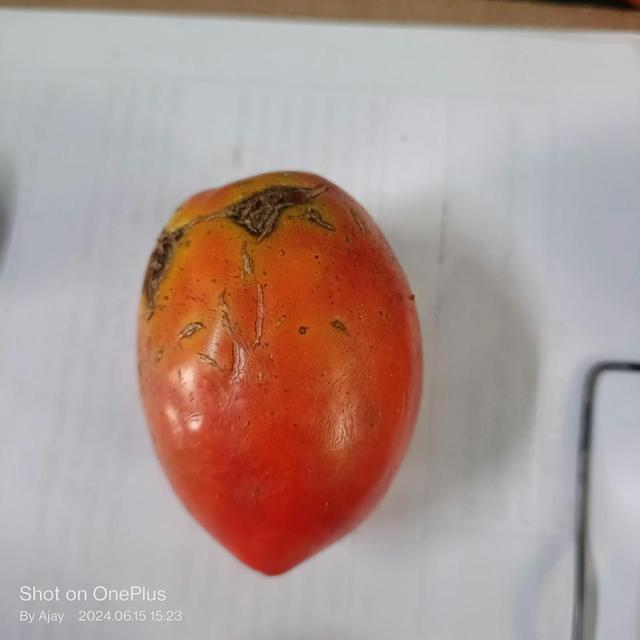Cracking Fruit: (148, 59, 301, 183)
